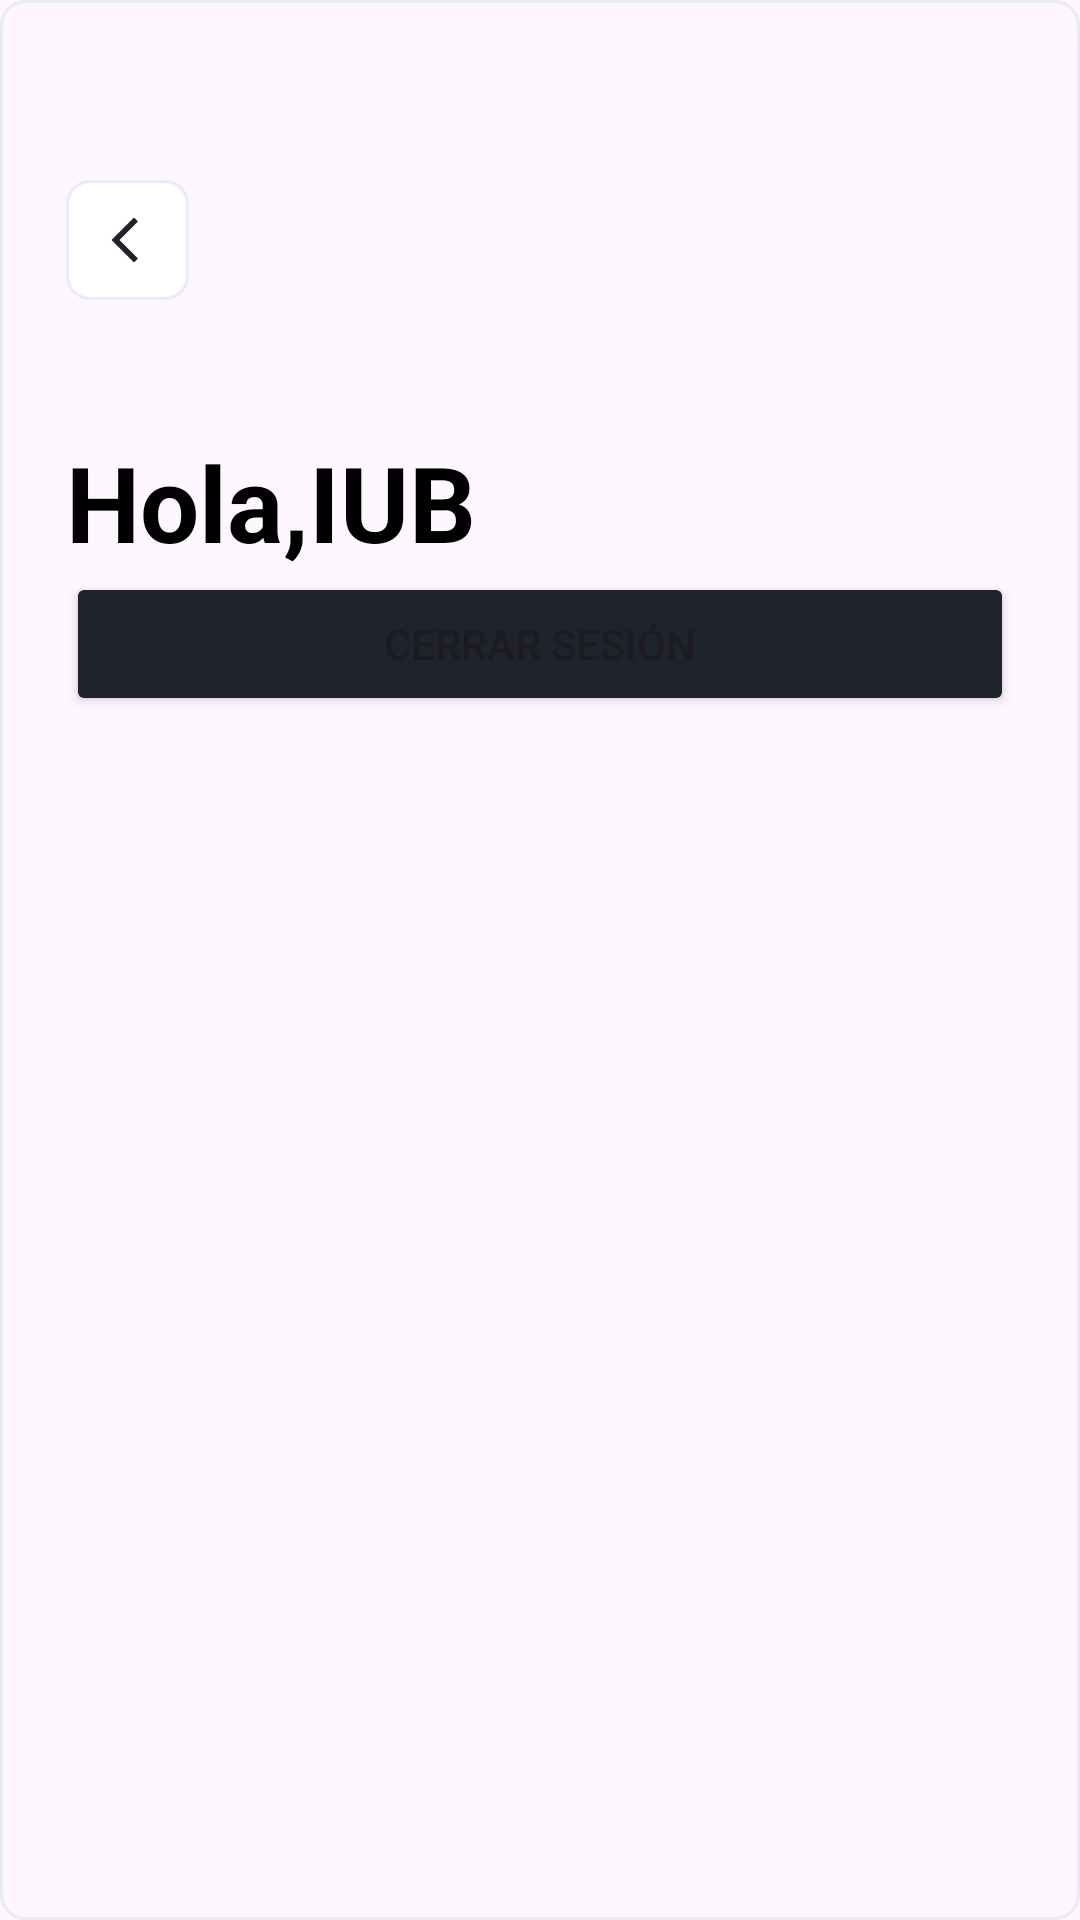

Where to tap for icons on this 1080x1920 app screen, as point (x, y):
arrow back: point (127, 240)
